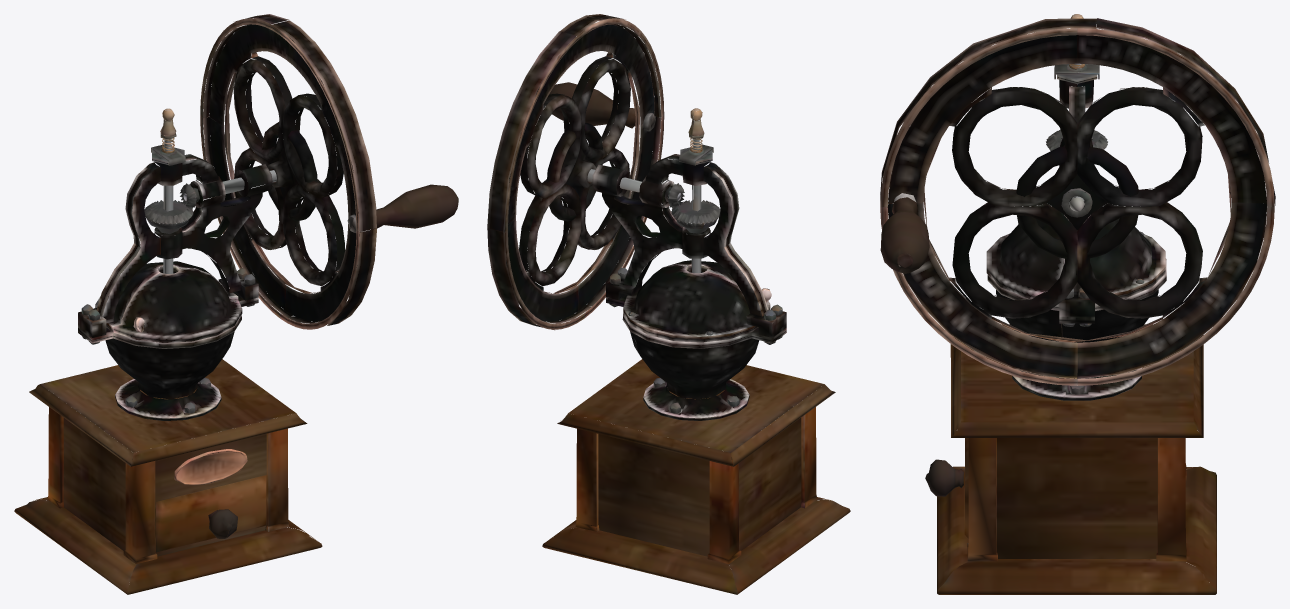
Rendered from obj_classic_coffee_grinder.glb.
3 views of the same model, side by side, from view 1: azimuth 30°, elevation 25°; view 2: azimuth 150°, elevation 25°; view 3: azimuth 270°, elevation 25° (orthographic). The views are drawn at different scales.
Visible parts, largest first — view 1: defaultMaterial; view 2: defaultMaterial; view 3: defaultMaterial.
Part boxes in pixels (bbox=[...]): defaultMaterial: bbox=[14, 14, 458, 594]; defaultMaterial: bbox=[487, 14, 850, 594]; defaultMaterial: bbox=[880, 14, 1275, 594].
Size of the model in its own units: 0.209 by 0.3 by 0.1834.
1 material, 1 textured.
